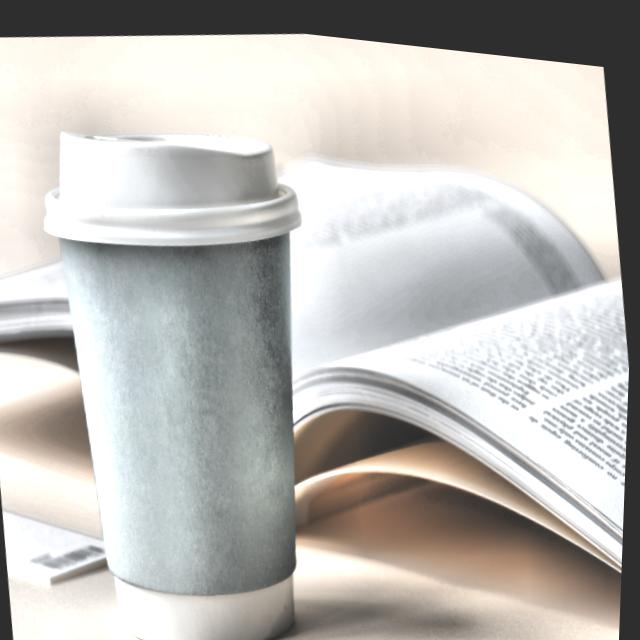Cup: (29, 140, 359, 640)
